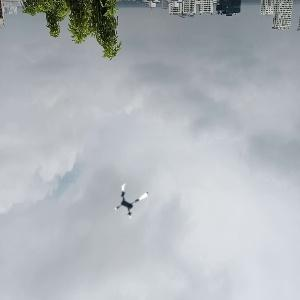drone: (114, 183, 150, 219)
